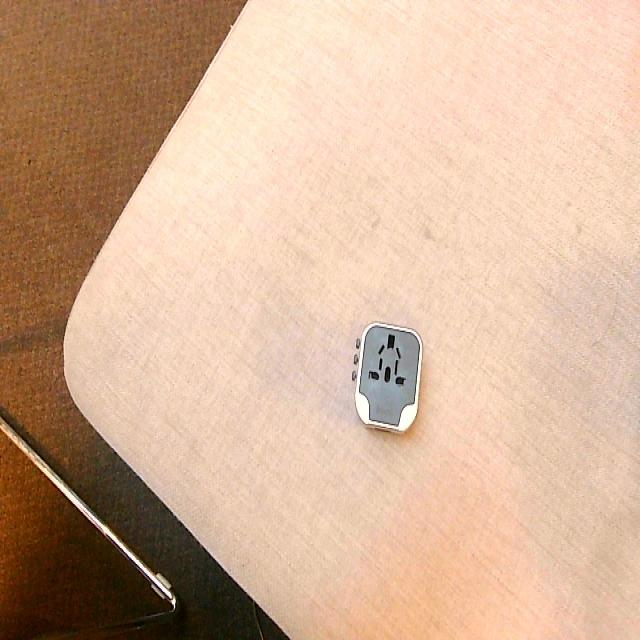adapter: (351, 320, 423, 433)
